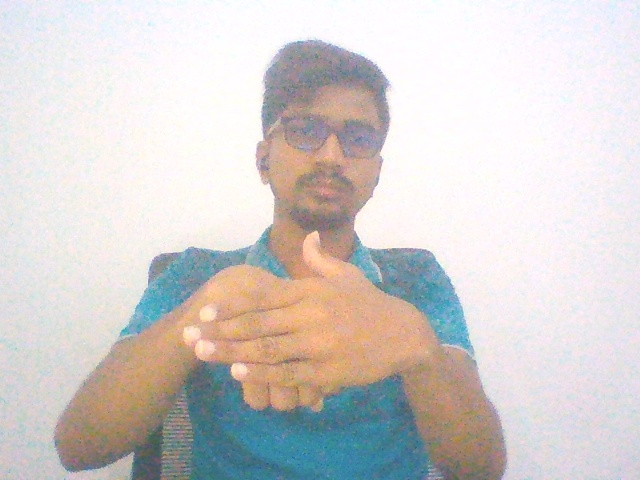pineapple: (170, 218, 448, 436)
